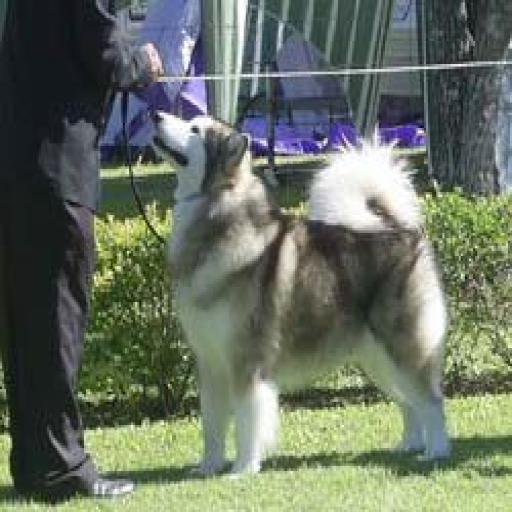dog_face: (151, 97, 259, 200)
